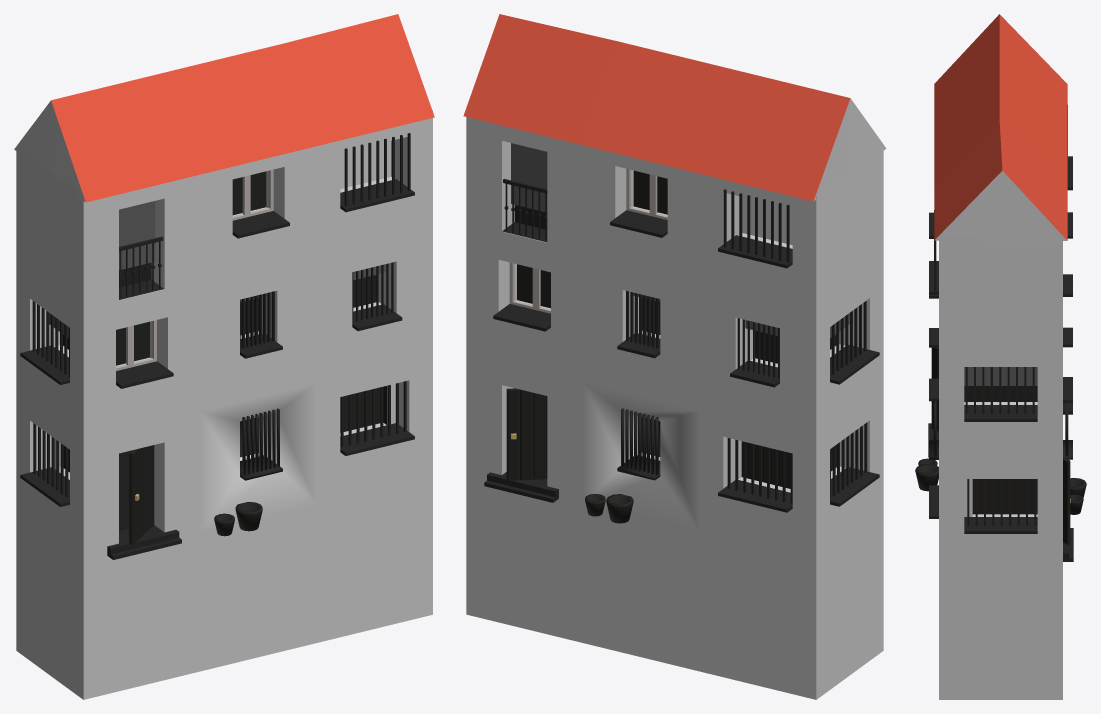
Rendered from casa procedural_relleno_Con sotano_2.fbx.
3 renders of one model, left to right at view 1: azimuth 30°, elevation 25°; view 2: azimuth 150°, elevation 25°; view 3: azimuth 270°, elevation 25°, orthographic. The views are drawn at different scales.
Visible parts, largest first — view 1: Procedural_Building_straight.001; view 2: Procedural_Building_straight.001; view 3: Procedural_Building_straight.001.
Boxes of the visible parts, x1,y1,x2,y2 form: Procedural_Building_straight.001: (14,14,434,699); Procedural_Building_straight.001: (463,14,886,699); Procedural_Building_straight.001: (915,14,1086,699).
Bounding box in the file's own units: 316 × 472 × 138.
